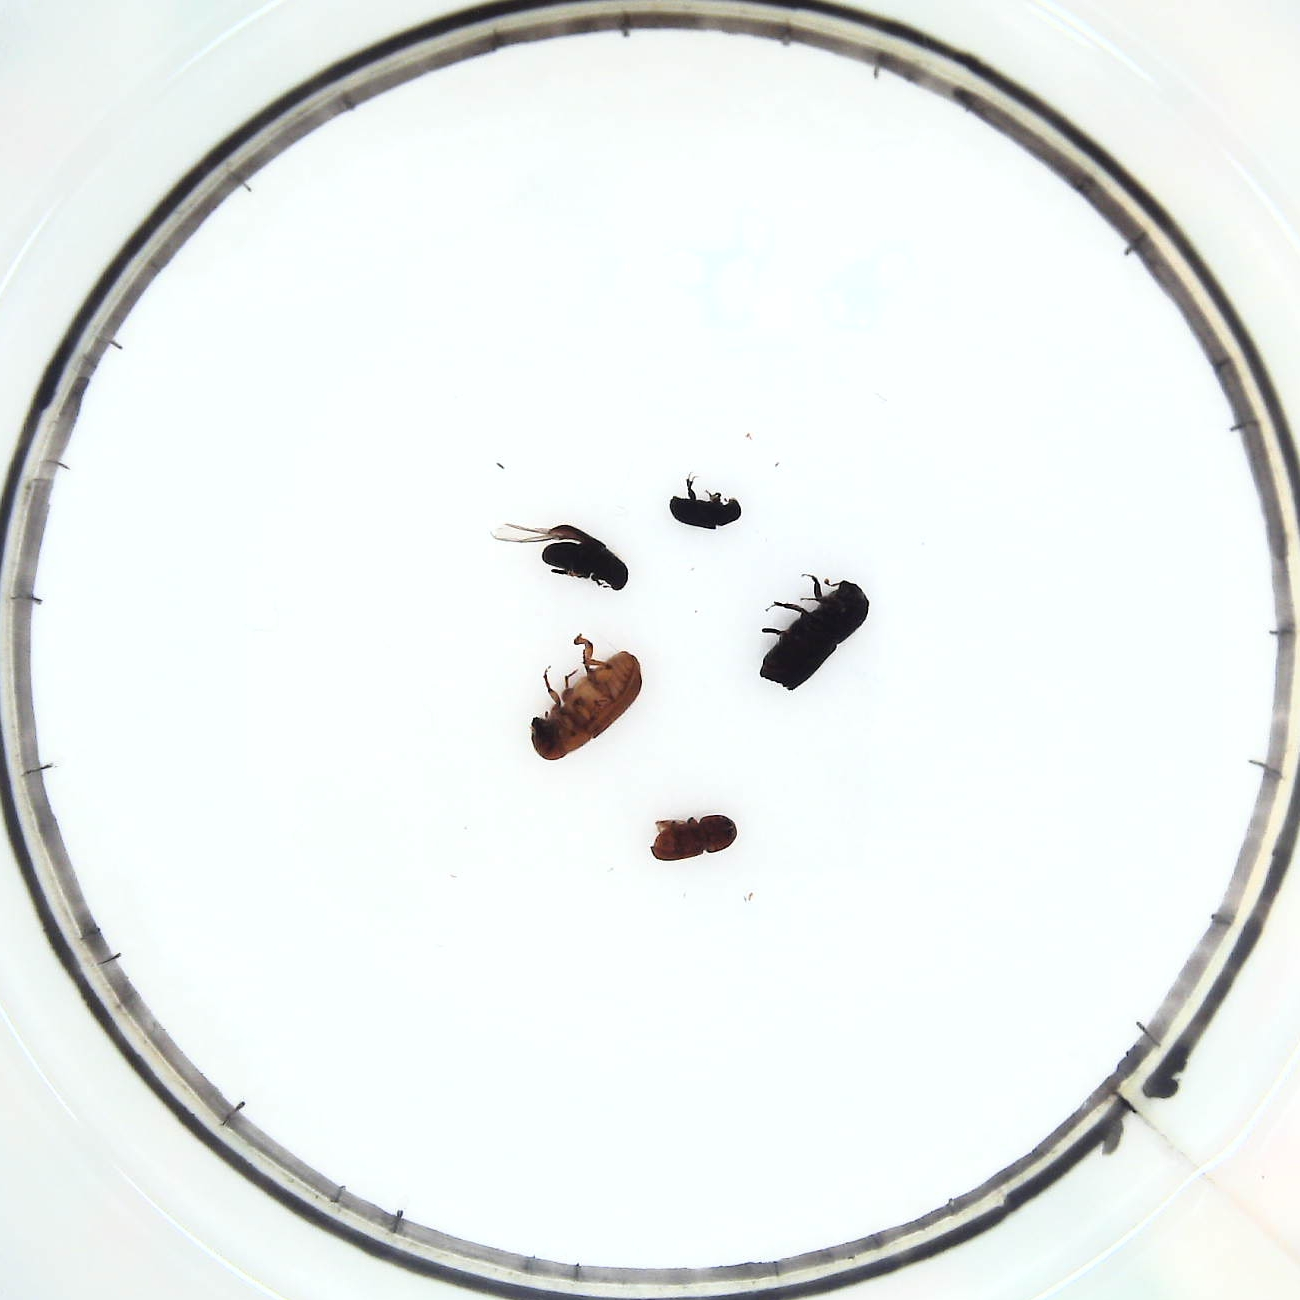Boerner: (754, 563, 876, 700)
Leconte: (529, 631, 646, 761)
armandi: (483, 514, 629, 602)
coleoptera: (663, 479, 749, 536)
linnaeus: (644, 812, 746, 865)
